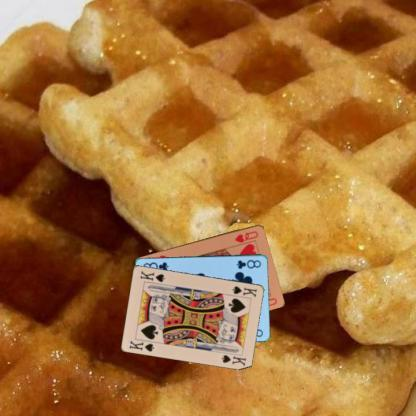8c: (233, 257, 262, 270)
Ks: (230, 283, 258, 298), (127, 338, 156, 352)
Qh: (232, 228, 260, 244)
